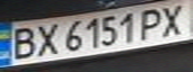1: (115, 10, 142, 43), (81, 16, 103, 50)
5: (100, 12, 124, 47)
6: (60, 17, 84, 53)
B: (3, 24, 42, 61)
P: (136, 6, 169, 42)
X: (154, 1, 193, 37), (30, 20, 63, 57)
